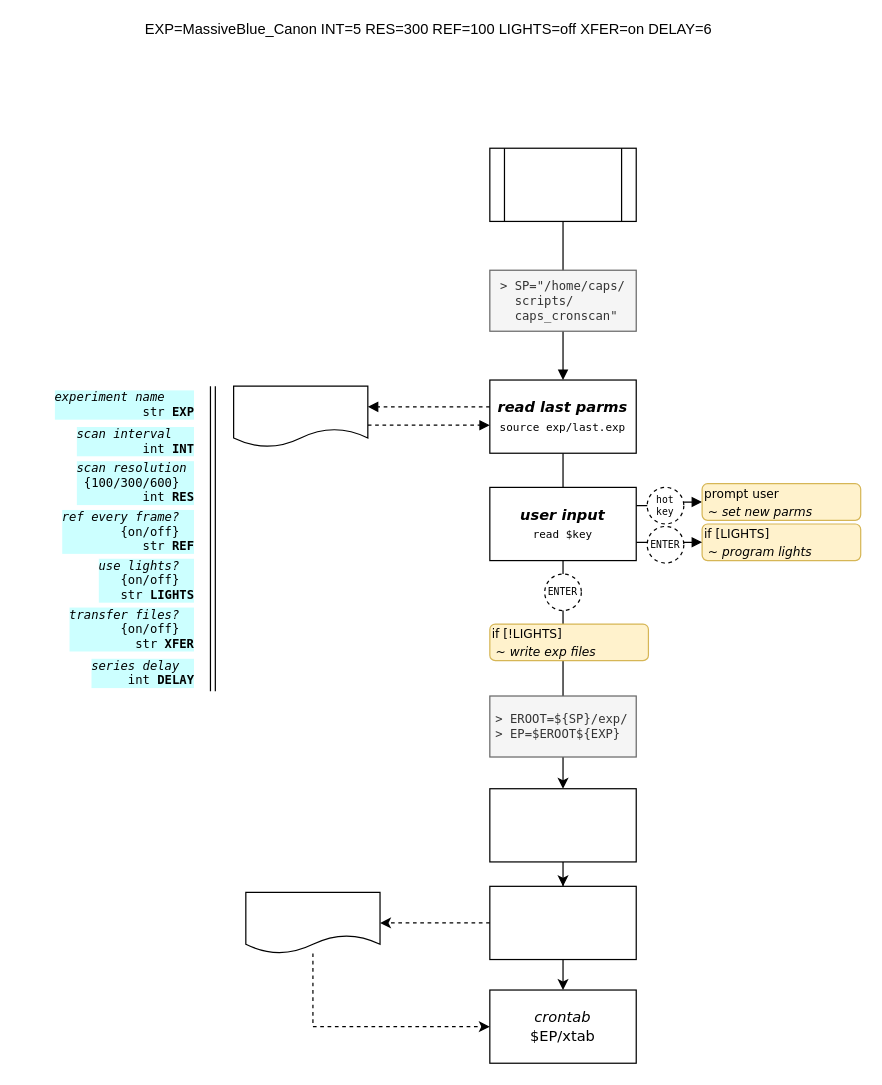
This 882x1085 diagram has some shape labels left out. Each missing label, with the centre of its shape:
"echo > $EP/xtab" goes at (562,922).
"execute $ ./go.sh" goes at (562,184).
"last.exp" goes at (300,416).
"prepare dir mkdir $EP" goes at (562,825).
"xtab" goes at (312,922).
